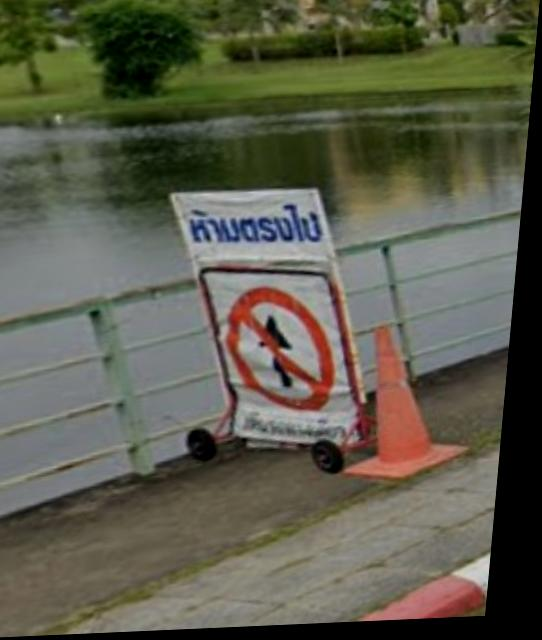not_go_straight: (222, 285, 355, 429)
